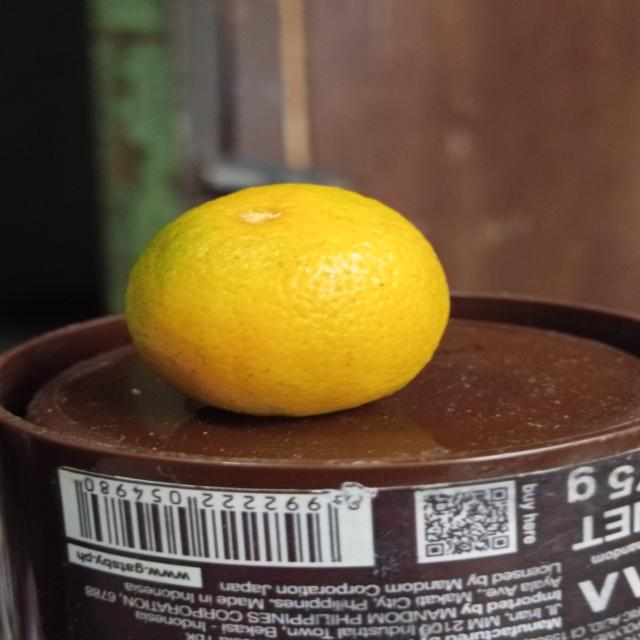greening: (118, 180, 456, 422)
